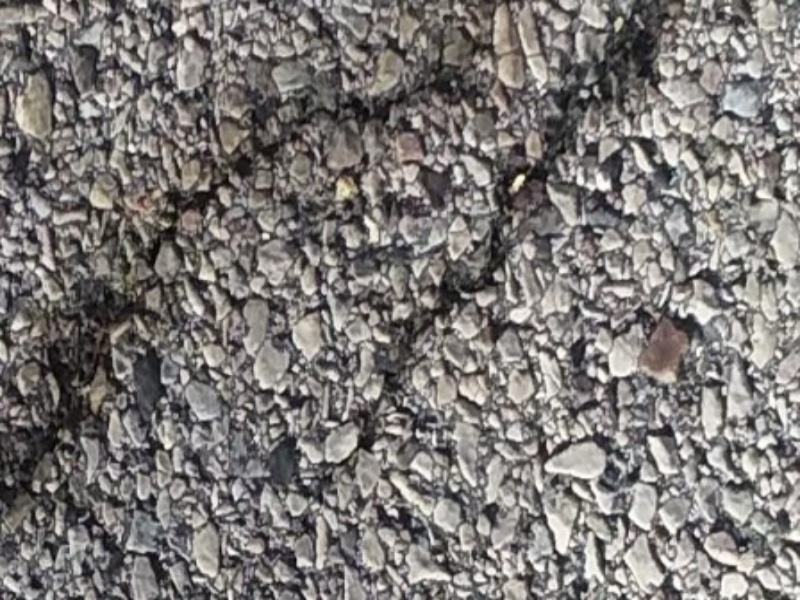crack: (5, 50, 515, 496), (290, 12, 672, 474)
